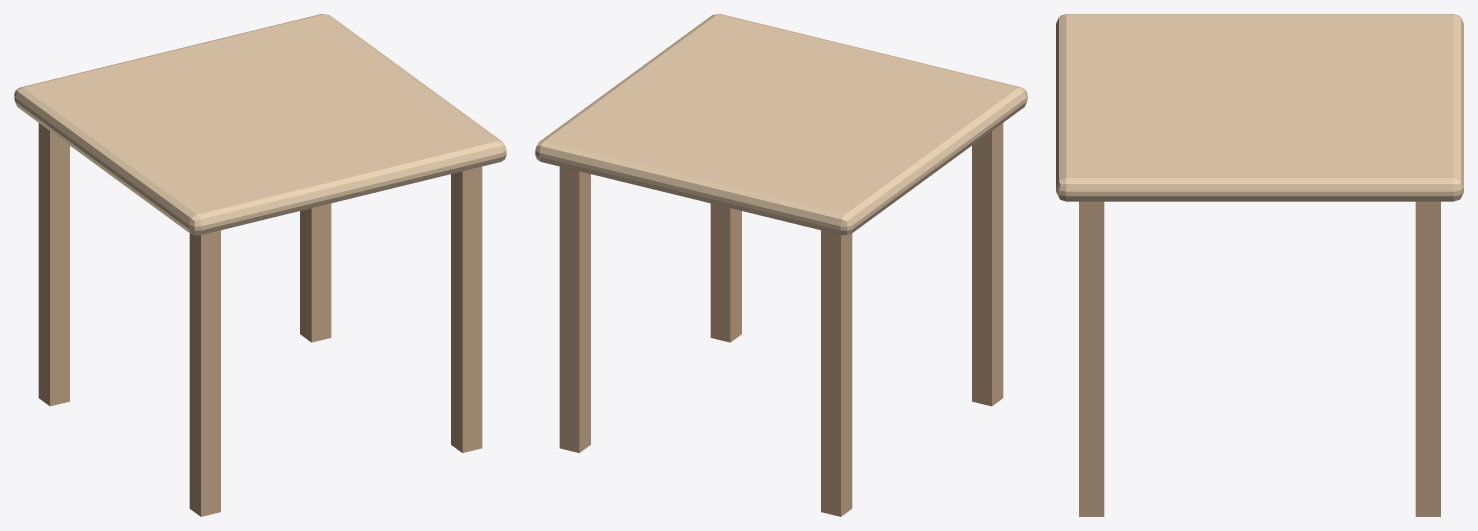
The model's file is mesa_pequena.glb.
3 renders of one model, left to right at view 1: azimuth 30°, elevation 25°; view 2: azimuth 150°, elevation 25°; view 3: azimuth 270°, elevation 25°, orthographic. The views are drawn at different scales.
Visible parts, largest first — view 1: mesa_pequena; view 2: mesa_pequena; view 3: mesa_pequena.
Boxes of the visible parts, box(x1,y1,x2,y2) form: mesa_pequena: box(14, 14, 506, 516); mesa_pequena: box(535, 14, 1027, 516); mesa_pequena: box(1056, 14, 1463, 516).
Size of the model in its own units: 0.8 by 0.745 by 0.8.
